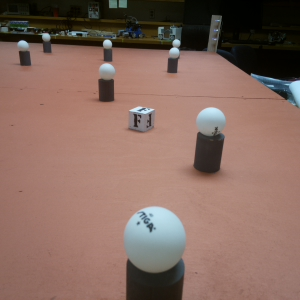blockF: (129, 104, 153, 134)
corner: (208, 14, 221, 51)
obstacle: (122, 205, 188, 300), (193, 106, 224, 177), (98, 61, 116, 104), (16, 38, 33, 65), (167, 48, 181, 73), (41, 31, 54, 54), (103, 39, 114, 61), (172, 37, 183, 54)
